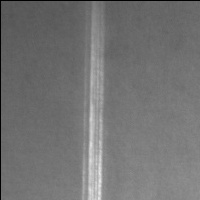scratches: (78, 18, 108, 200)
